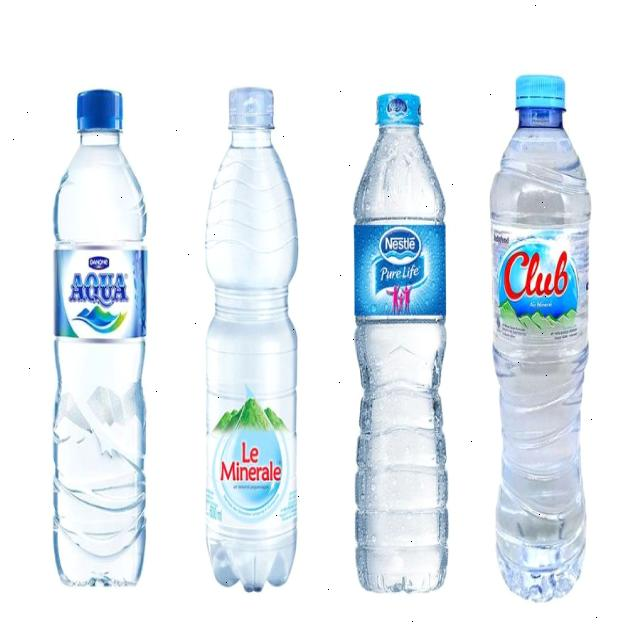Plastic: (485, 67, 591, 601), (350, 82, 456, 606), (200, 76, 301, 608), (49, 78, 147, 594)
